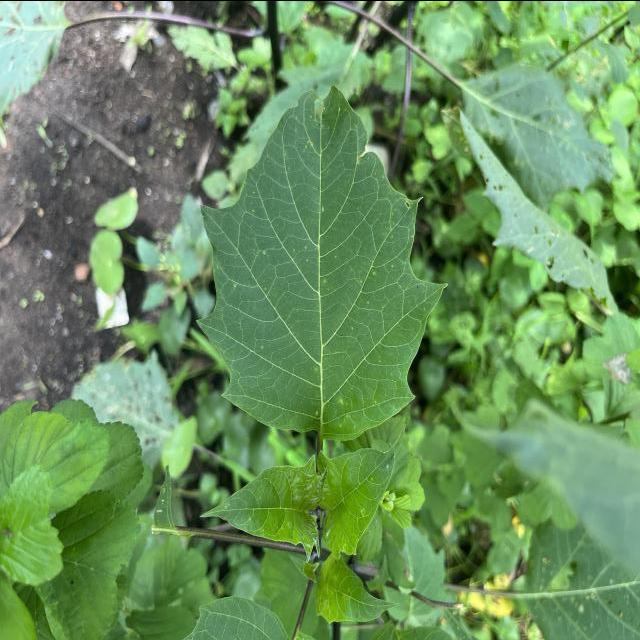Datura metal linn: (192, 82, 452, 444)
